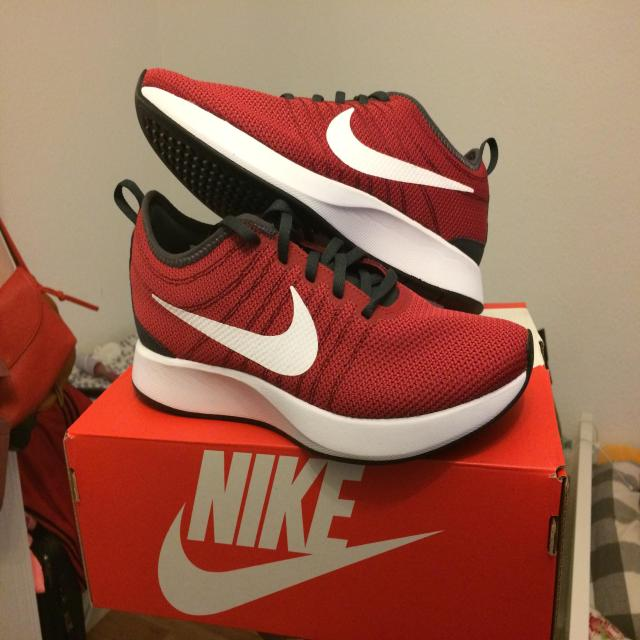shoe: (95, 154, 557, 488), (119, 55, 550, 295)
